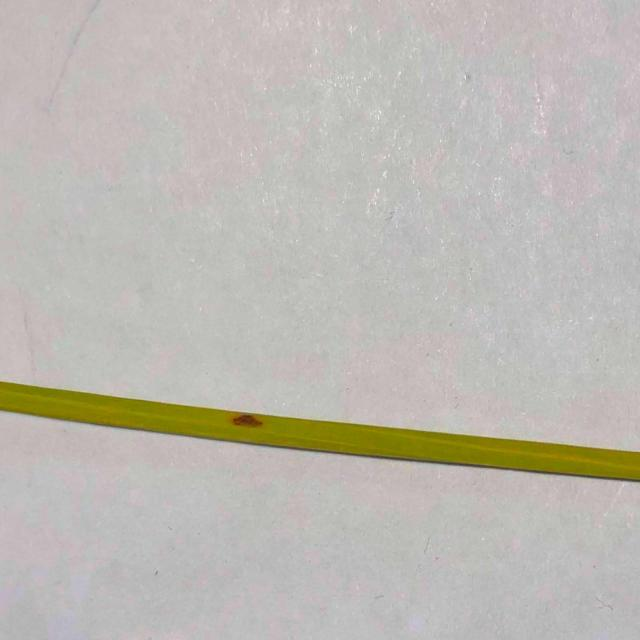Leaf blast: (222, 411, 284, 436)
